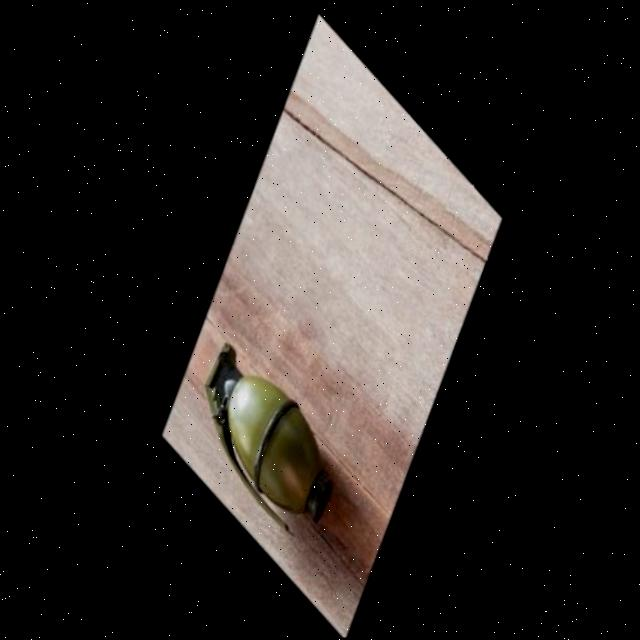grenade: (188, 311, 350, 564)
